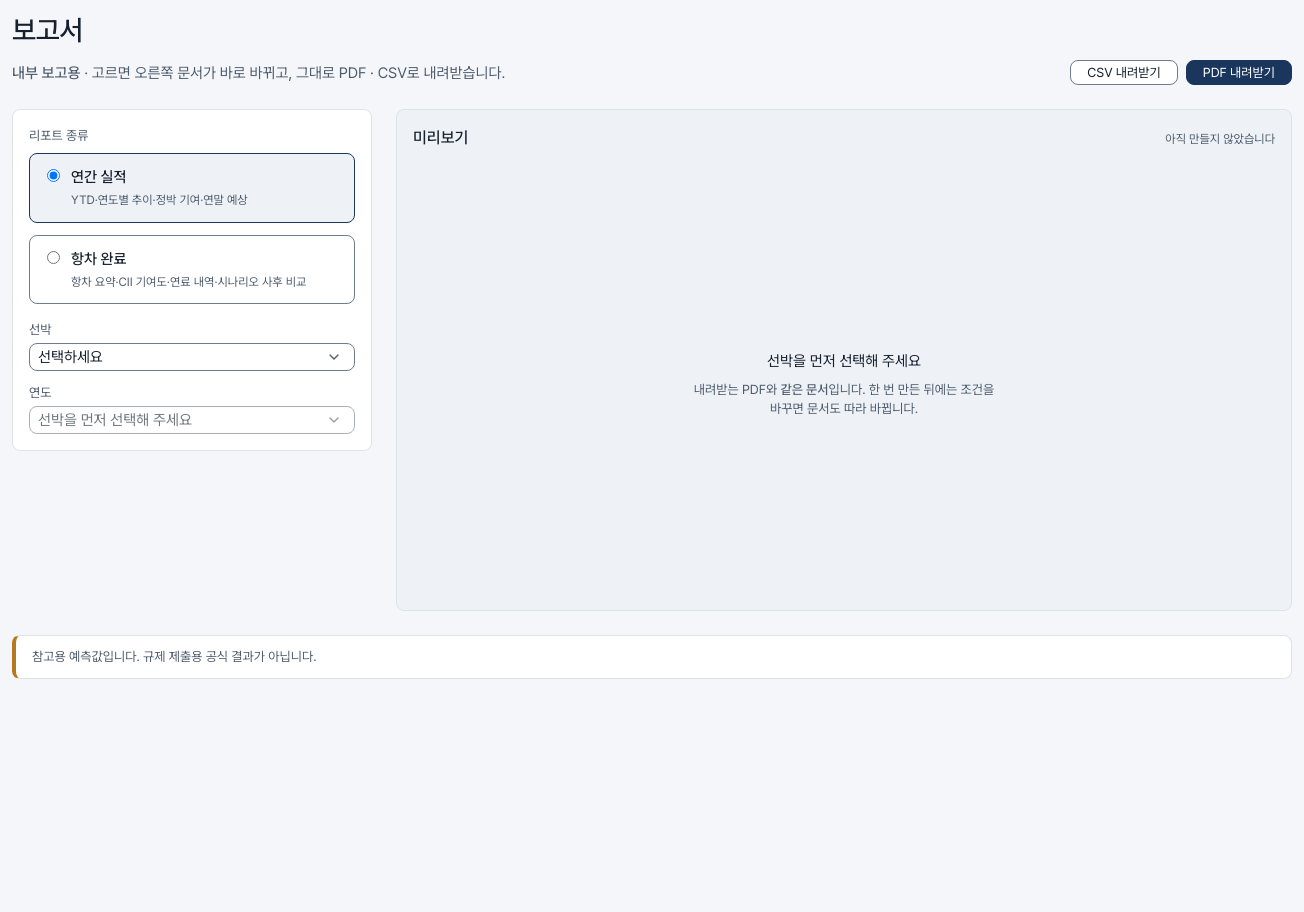
Test: 선박을 바꾸면 항차 목록이 어긋나지 않는다 (#824 ⑵) › 진짜로 항차가 없으면 종전대로 「없음」이다
The width and height of the screenshot is (1304, 912).
Step 1. Click the radio button with test id "kind-voyage" → (54, 257), box [47,251,60,264]
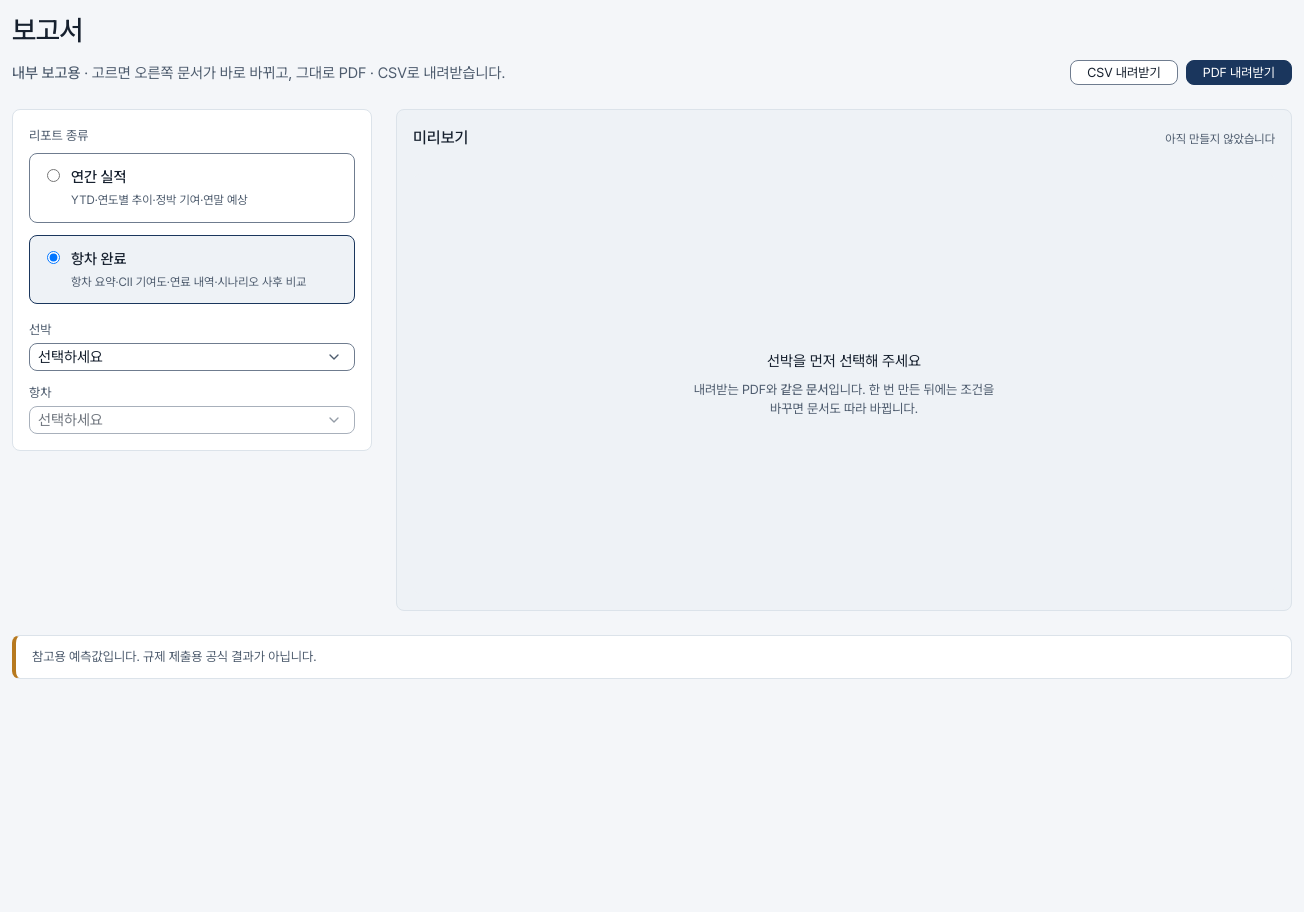
Step 2. Select "STAR SKIPPER (IMO 9876543)" in the dropdown with test id "vessel-select" → (192, 357), box [29,343,355,371]
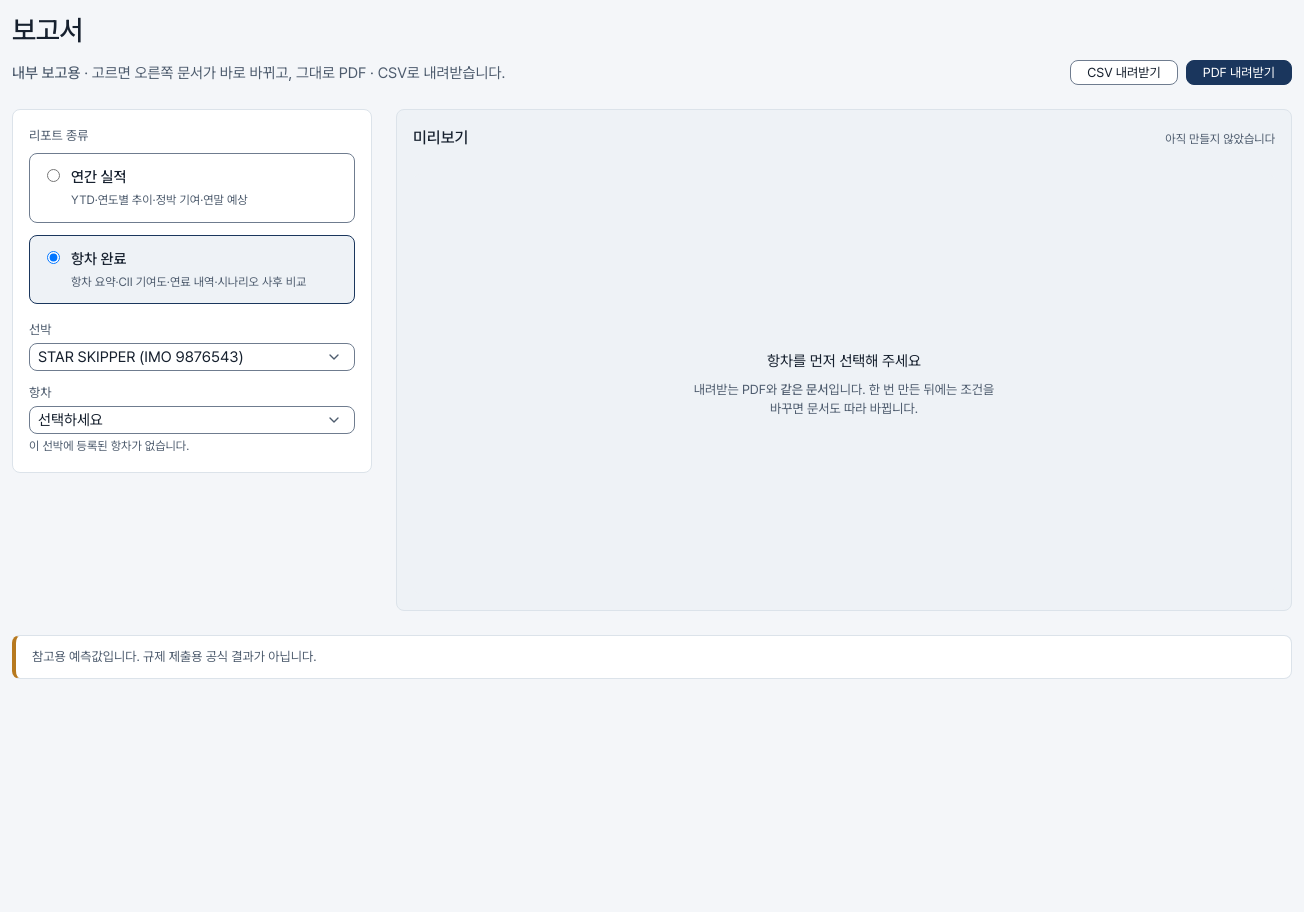
Now the text "이 선박에 등록된 항차가 없습니다." is shown, box [29,439,189,453]
